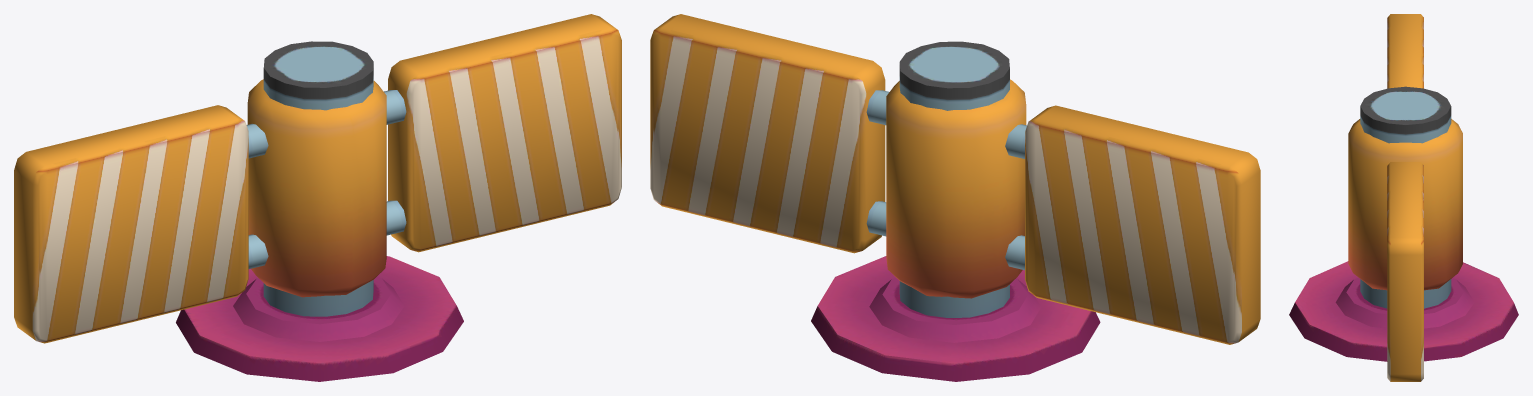
Rendered from toy__hinged_door_ugc_a_000_1x1.glb.
3 renders of one model, left to right at view 1: azimuth 30°, elevation 25°; view 2: azimuth 150°, elevation 25°; view 3: azimuth 270°, elevation 25°, orthographic. The views are drawn at different scales.
Parts seen in each view (by area): view 1: PaddleSmallv2b_5, Visual_2; view 2: PaddleSmallv2b_5, Visual_2; view 3: PaddleSmallv2b_5, Visual_2.
Part boxes in pixels (box(x1,y1,x2,y2)): PaddleSmallv2b_5: box(14, 14, 621, 343); Visual_2: box(176, 41, 463, 381); PaddleSmallv2b_5: box(650, 14, 1260, 344); Visual_2: box(811, 41, 1100, 381); PaddleSmallv2b_5: box(1348, 14, 1462, 381); Visual_2: box(1289, 86, 1518, 361).
Size of the model in its own units: 3.57 by 1.49 by 1.49.
Materials: 1 (1 with a texture image).
